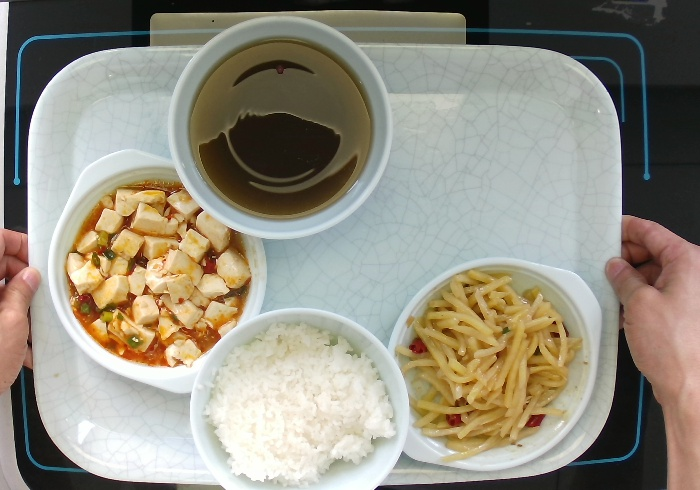JYsf-Fan_Wan: (165, 14, 395, 241), (188, 305, 412, 490)
JYsf-Shuang_Er_Pan: (46, 146, 269, 395), (386, 255, 604, 473)
